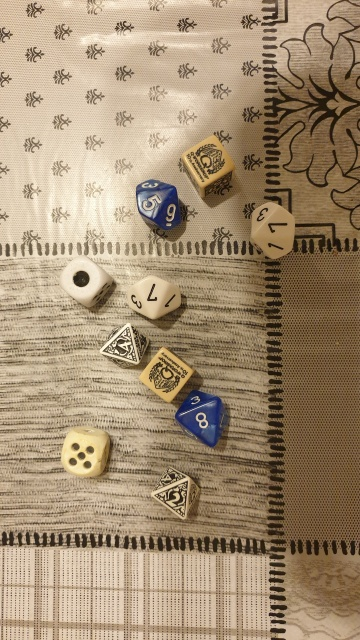d10-5: (128, 171, 187, 239)
d10-7: (242, 195, 301, 266), (121, 270, 187, 326)
d10-8: (173, 386, 230, 450)
d6-1: (55, 254, 115, 310)
d6-5: (54, 422, 115, 482)
d6p-6: (177, 133, 238, 200), (136, 342, 195, 406)
d8p-2: (147, 458, 207, 527)
d8p-4: (99, 323, 148, 370)
